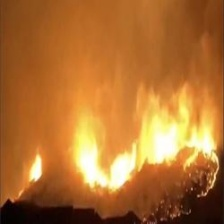fire: (68, 98, 220, 193), (24, 150, 45, 185)
